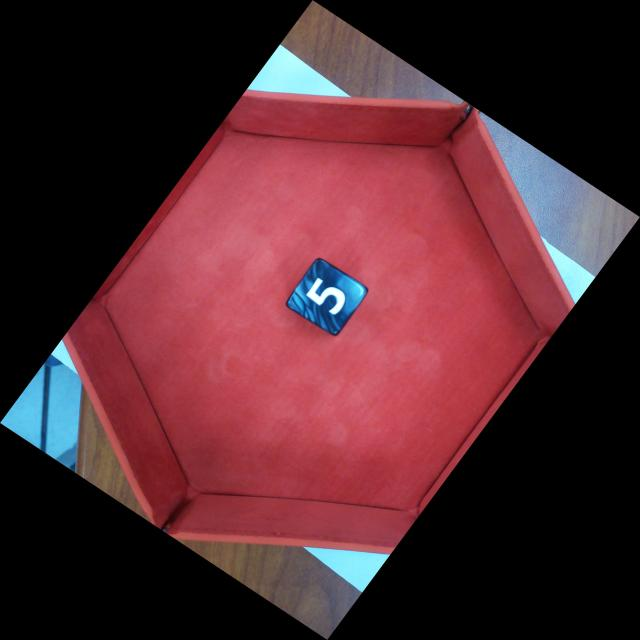dice: (291, 255, 368, 332)
